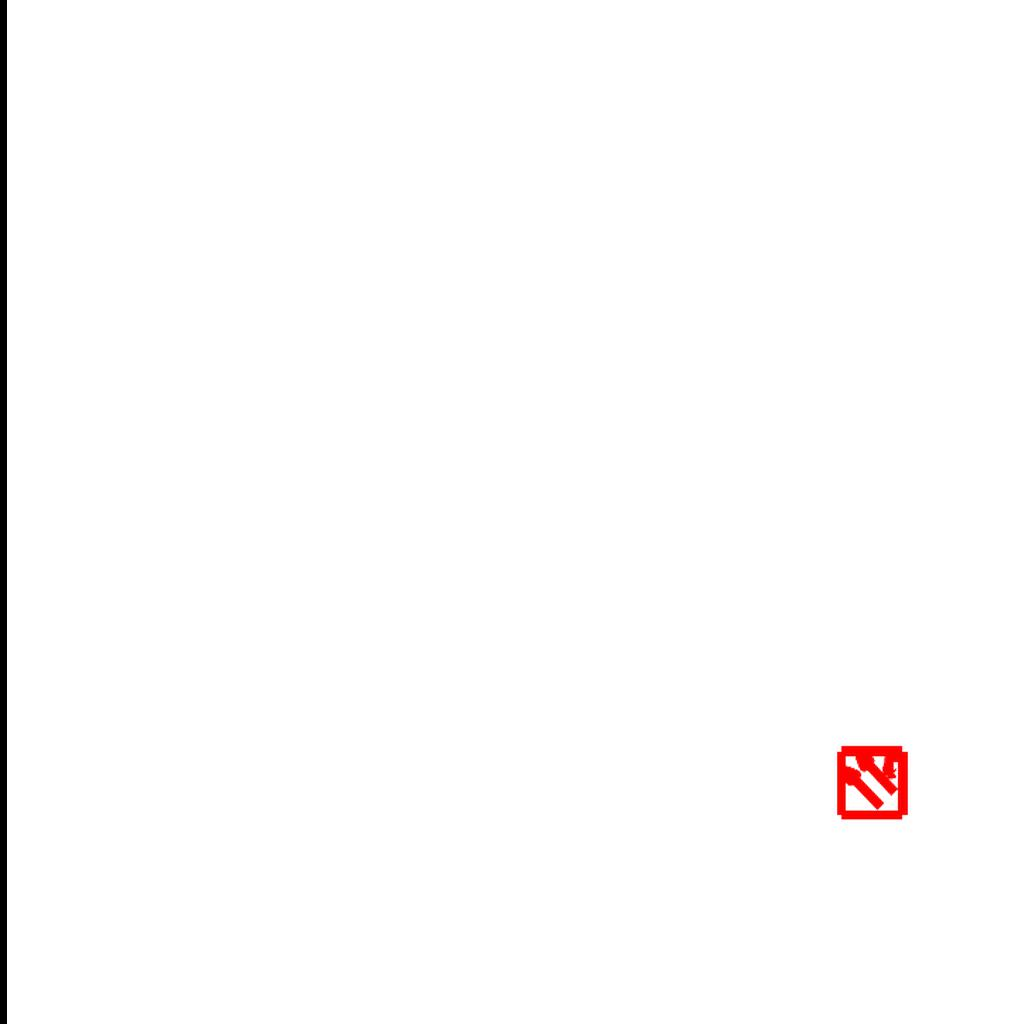OT_Multisensormelder_(Kombination_RMO_WMD): (816, 724, 929, 837)
